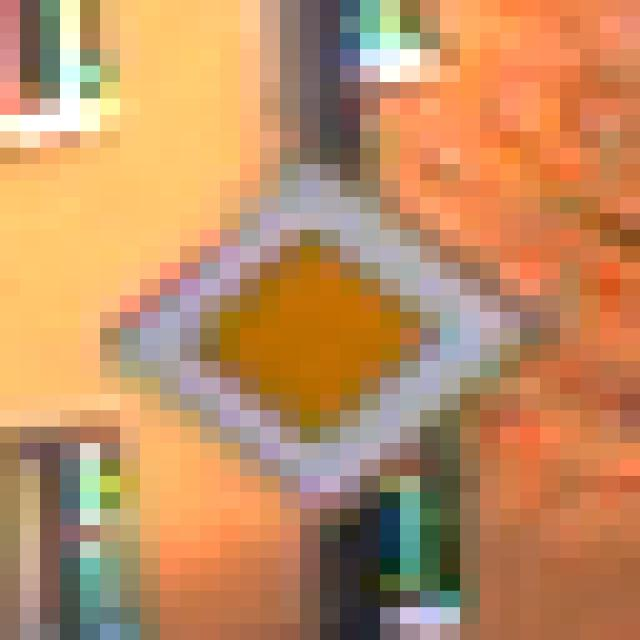Main Road: (101, 99, 541, 559)
